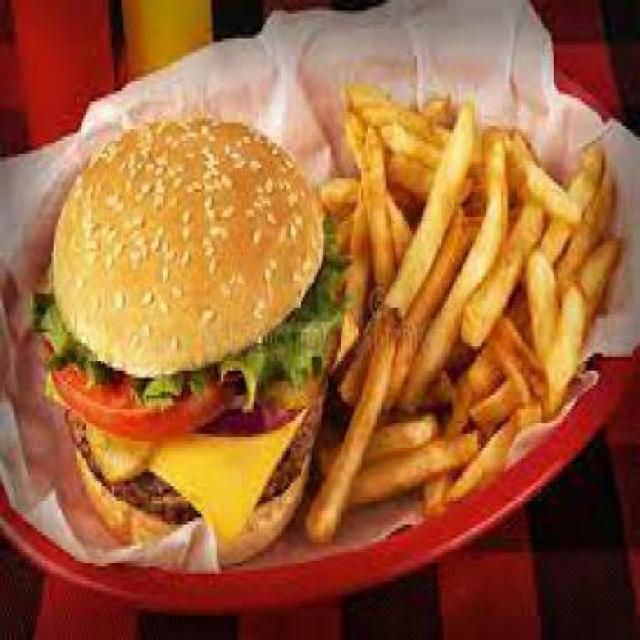french fries: (307, 73, 619, 542)
hamburger: (38, 104, 333, 574)
